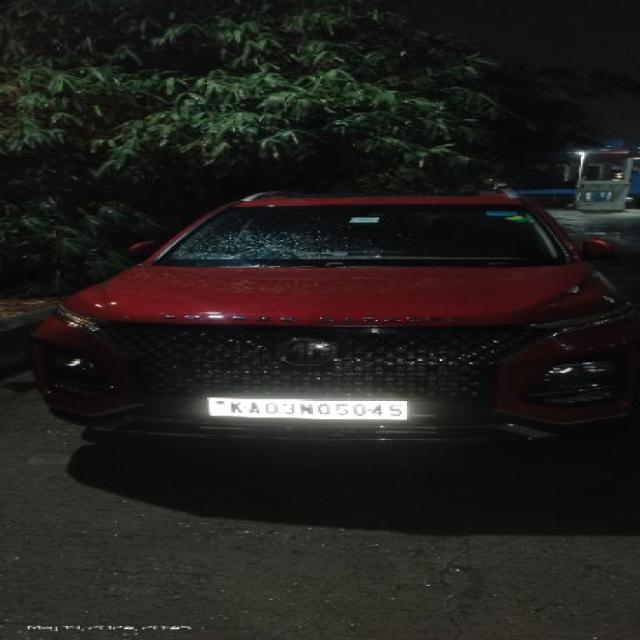license_plate: (202, 395, 410, 421)
